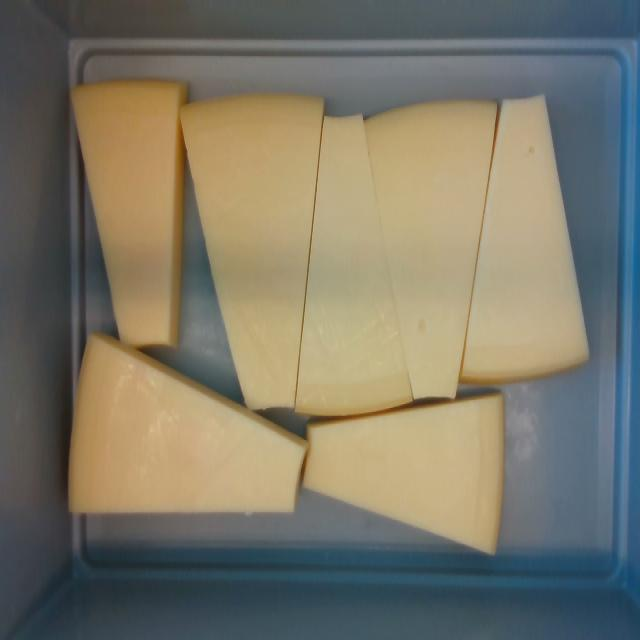Cheese: (178, 95, 322, 409), (70, 341, 307, 512), (364, 101, 495, 398), (461, 94, 590, 380), (295, 116, 412, 416), (305, 395, 505, 552), (69, 83, 182, 345)
